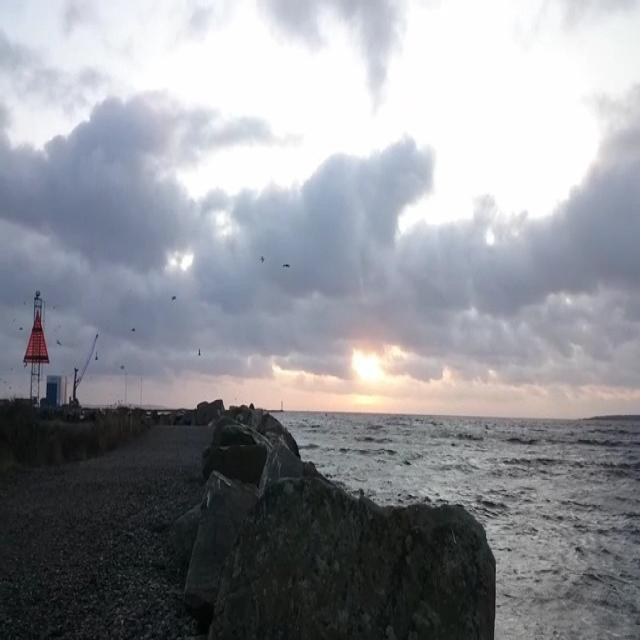bird: (256, 255, 267, 266), (54, 337, 65, 348), (281, 260, 294, 269), (196, 345, 202, 359), (170, 295, 178, 304), (117, 362, 125, 370), (129, 327, 139, 332), (18, 326, 26, 332)
